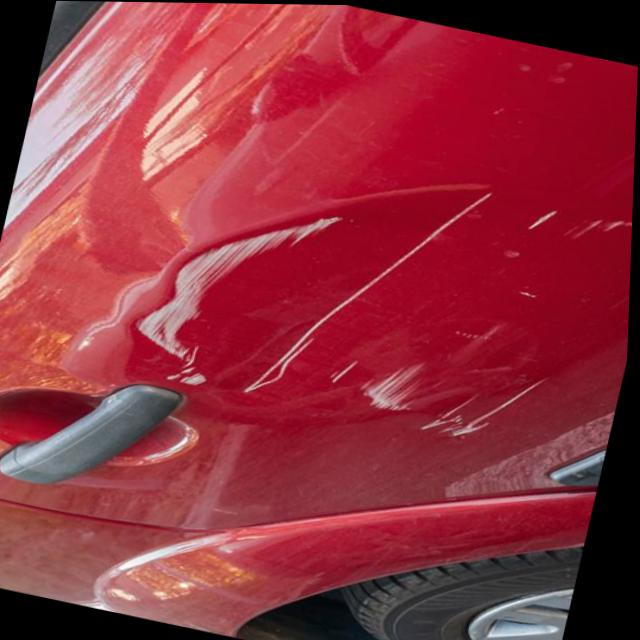Dent: (104, 114, 607, 461)
